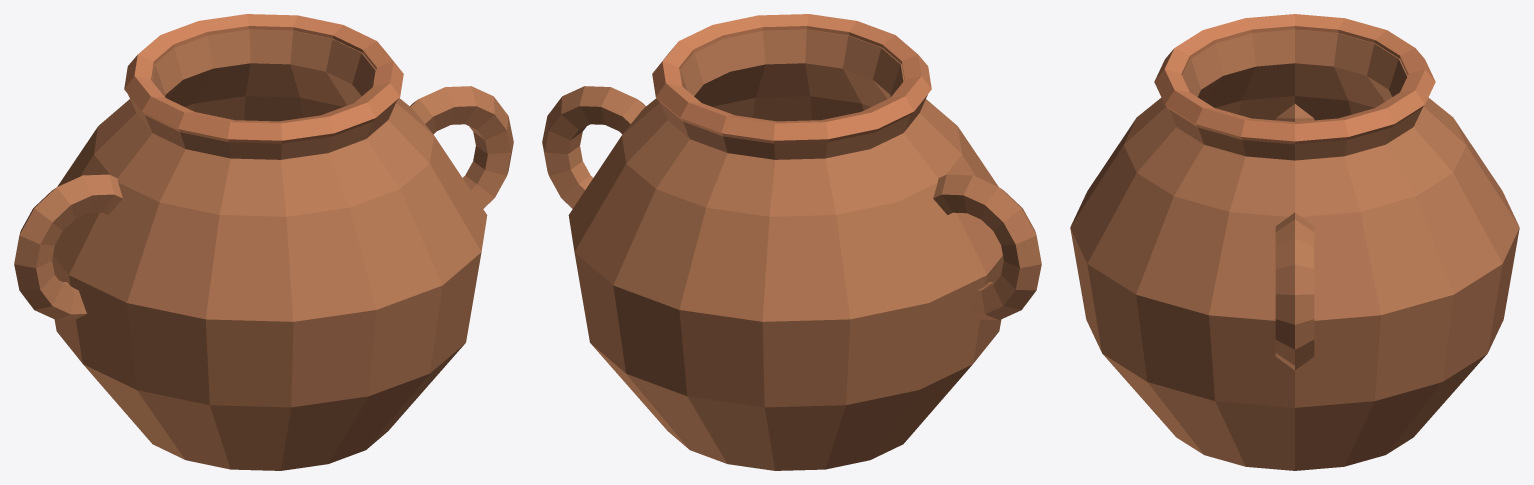
File: Olla_Barro.fbx
3 renders of one model, left to right at view 1: azimuth 30°, elevation 25°; view 2: azimuth 150°, elevation 25°; view 3: azimuth 270°, elevation 25°, orthographic.
Parts seen in each view (by area): view 1: Olla_Barro; view 2: Olla_Barro; view 3: Olla_Barro.
Boxes of the visible parts, <box> form: Olla_Barro: <box>14,14,513,470</box>; Olla_Barro: <box>542,14,1041,470</box>; Olla_Barro: <box>1070,14,1519,470</box>.
Bounding box in the file's own units: 1.08 × 0.7166 × 0.84.
